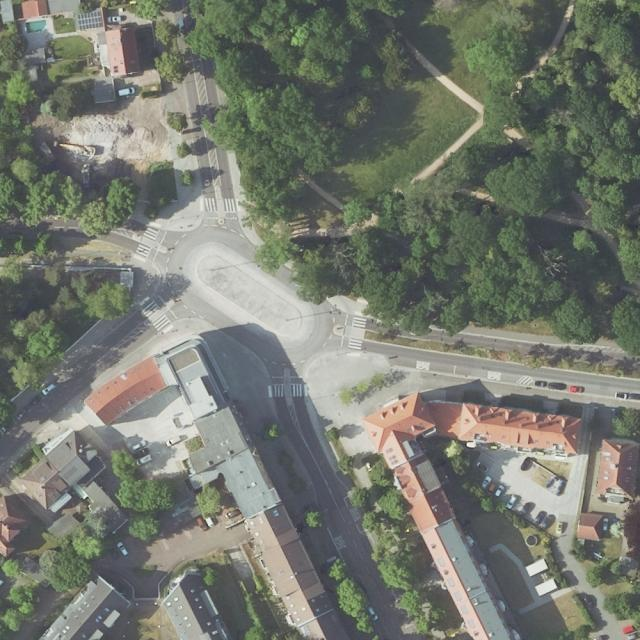PV: (78, 11, 103, 30)
